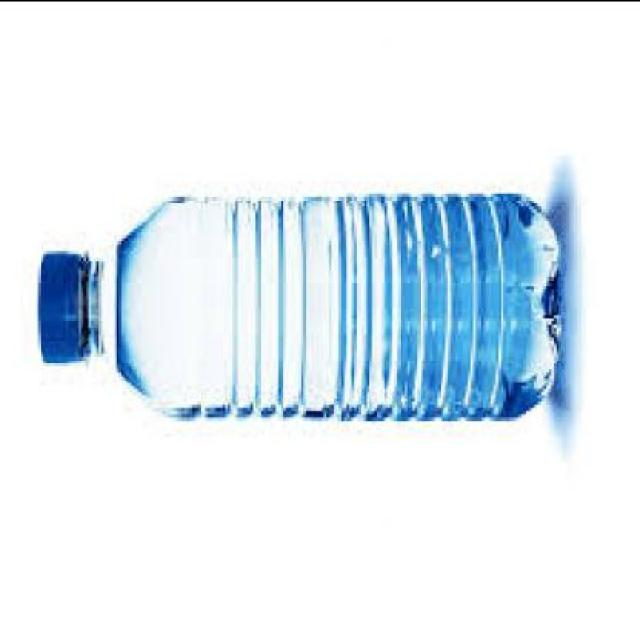PLASTIC: (33, 195, 559, 422), (35, 257, 91, 365)
